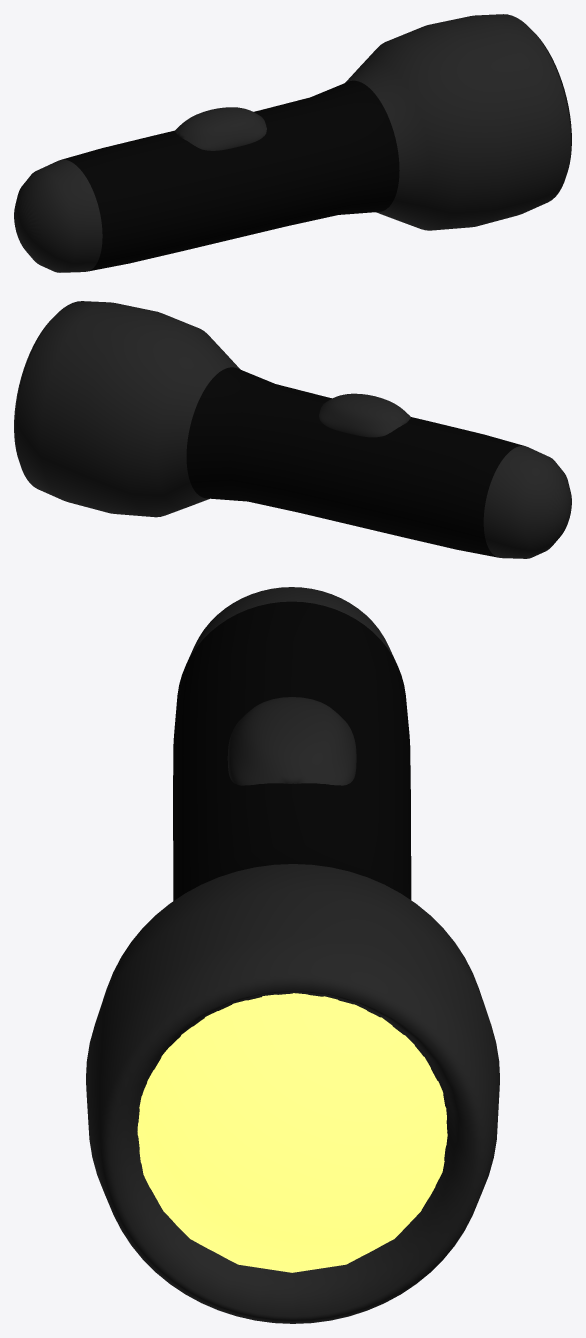
File: Flashlight.fbx
3 renders of one model, top to bottom at view 1: azimuth 30°, elevation 25°; view 2: azimuth 150°, elevation 25°; view 3: azimuth 270°, elevation 25°, orthographic. The views are drawn at different scales.
Visible parts, largest first — view 1: Icosphere; view 2: Icosphere; view 3: Icosphere.
Boxes of the visible parts, x1,y1,x2,y2 form: Icosphere: [14, 14, 571, 272]; Icosphere: [14, 301, 571, 558]; Icosphere: [86, 587, 499, 1323].
Size of the model in its own units: 1022 by 346 by 346.
